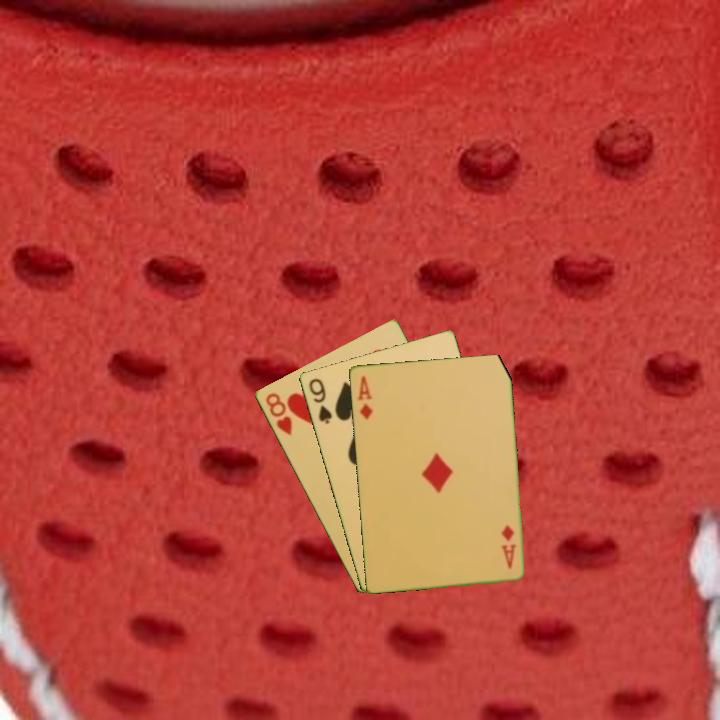8h: (261, 389, 295, 438)
9s: (305, 374, 335, 426)
Ad: (354, 372, 376, 422), (498, 521, 518, 571)
